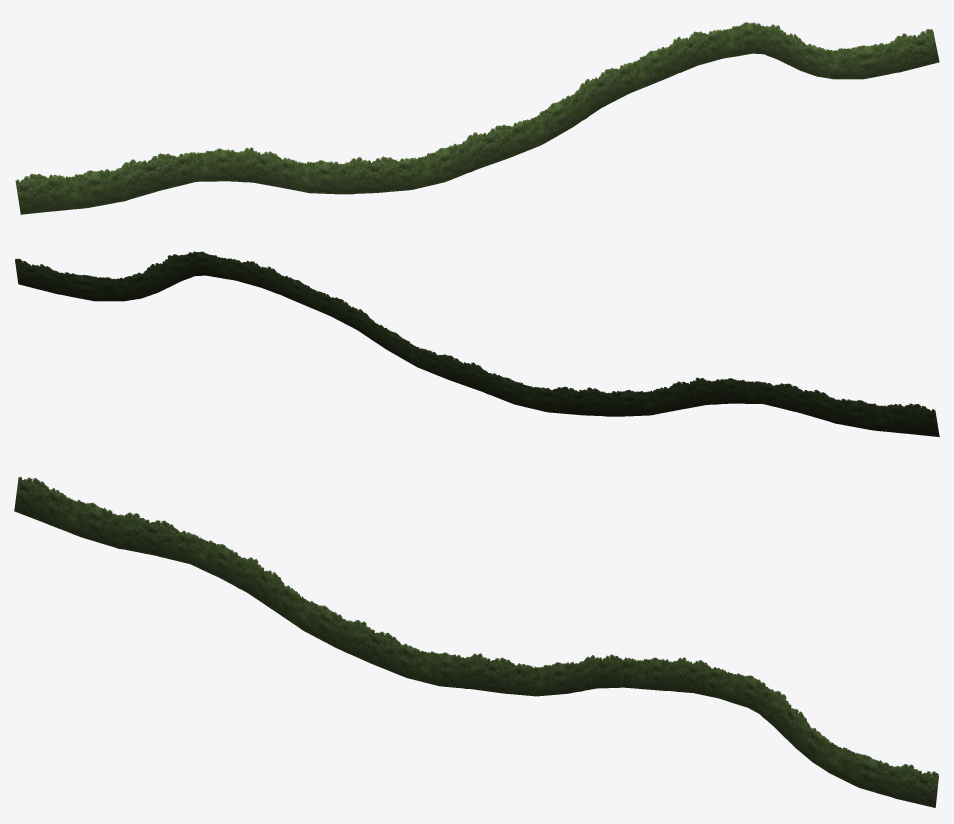
Rendered from Gras BG.FBX.
3 views of the same model, one above another, from view 1: azimuth 30°, elevation 25°; view 2: azimuth 150°, elevation 25°; view 3: azimuth 330°, elevation 25° (orthographic).
Parts seen in each view (by area): view 1: Grass BG; view 2: Grass BG; view 3: Grass BG.
Part boxes in pixels (x1,y1,x2,y2): Grass BG: [15, 22, 939, 214]; Grass BG: [15, 251, 939, 437]; Grass BG: [14, 476, 938, 807].
Size of the model in its own units: 10329 by 140 by 1214.
